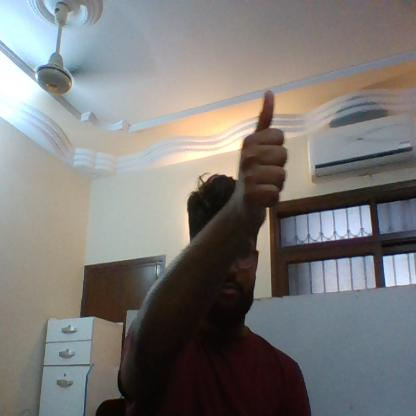thumbs-up: (238, 86, 299, 213)
